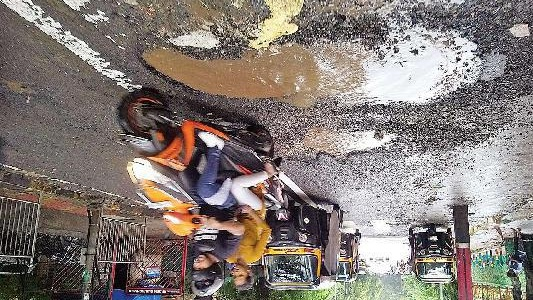pothole: (133, 28, 486, 110), (297, 126, 400, 163)
